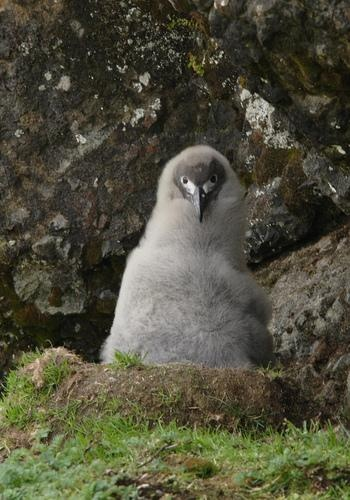bird: (99, 141, 275, 373)
